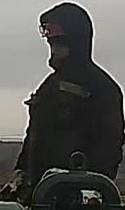gloves: (0, 167, 26, 201)
helmet: (38, 21, 68, 40)
vest: (22, 62, 124, 206)
